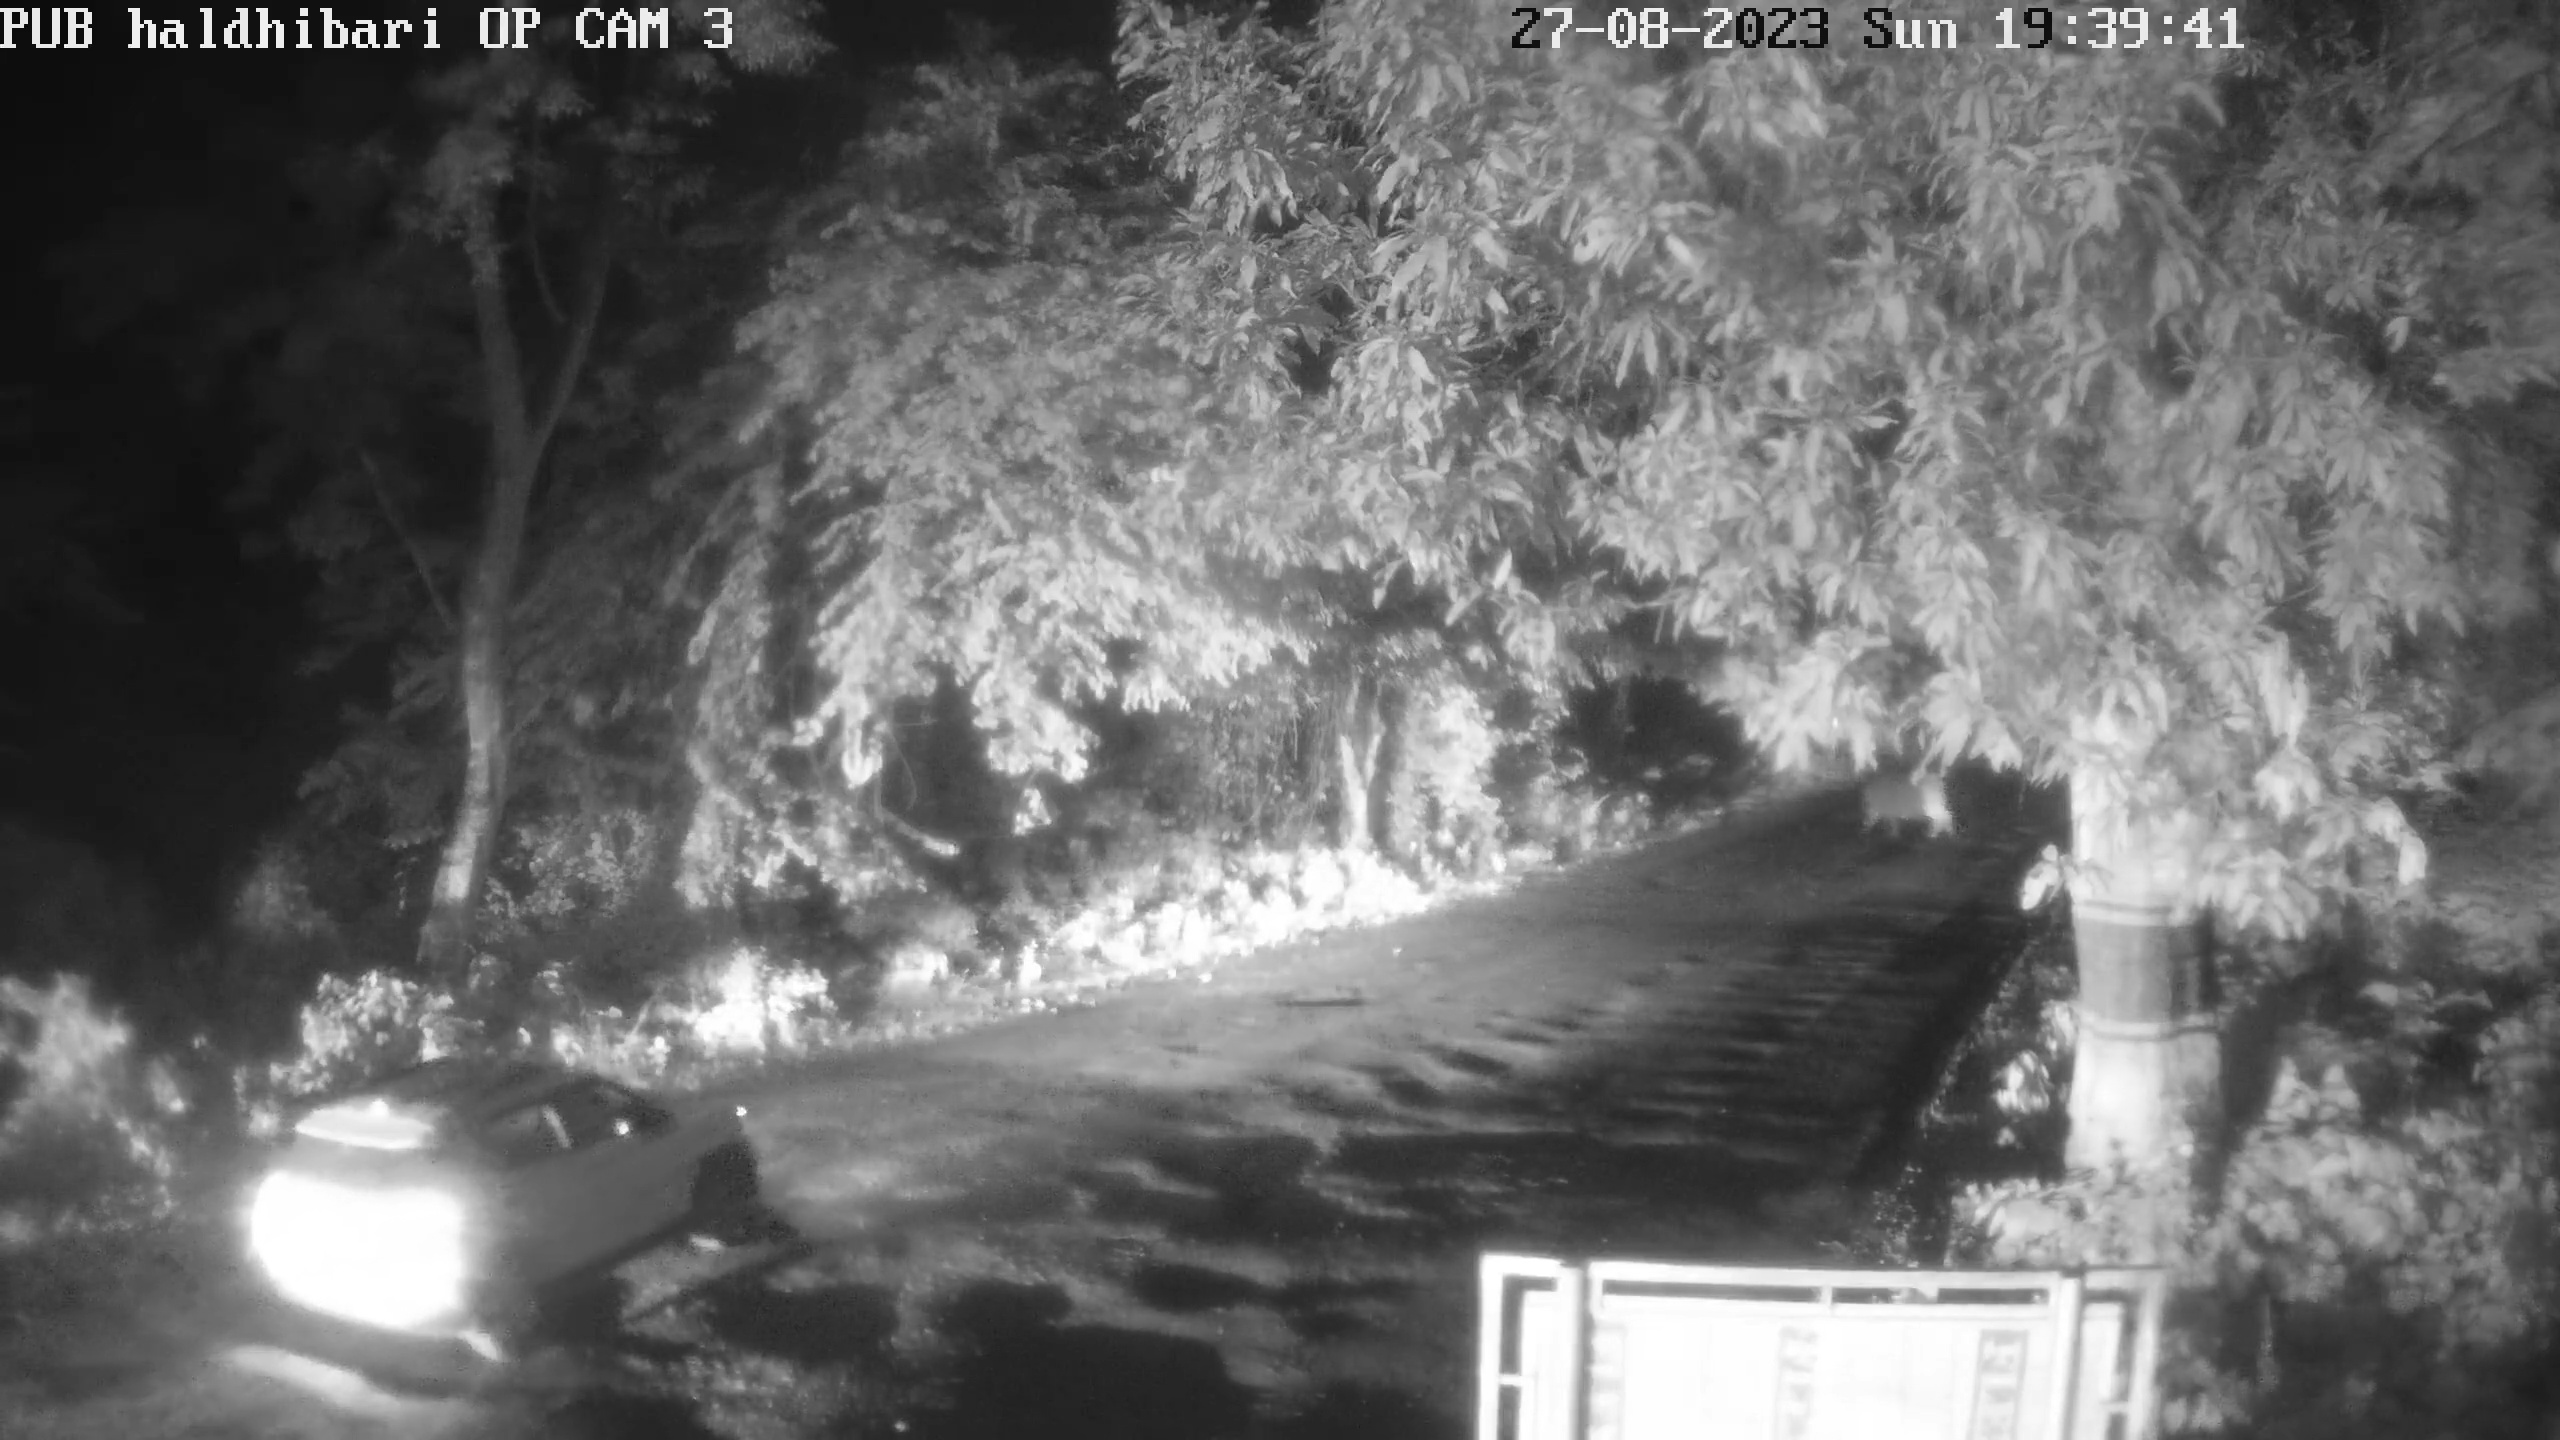rhinos: (1846, 770, 1960, 839)
